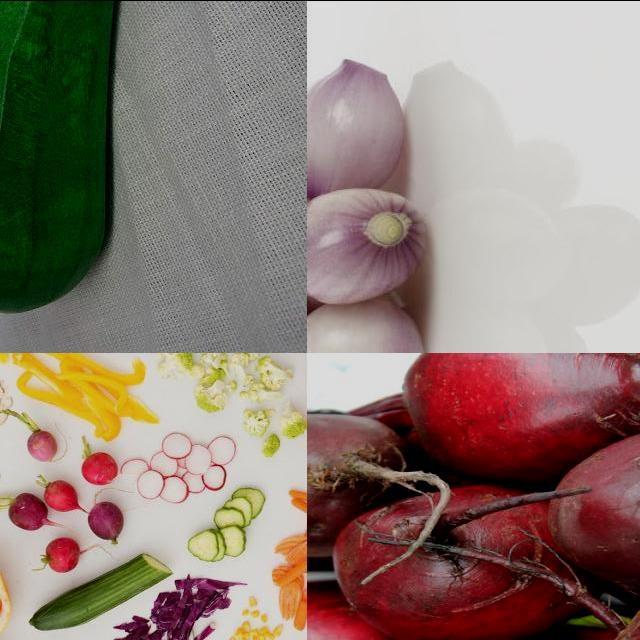beet: (332, 484, 570, 640), (407, 353, 640, 487), (308, 408, 415, 558), (550, 435, 640, 591)
cucumber: (30, 556, 162, 631)
onion: (308, 190, 432, 308), (308, 61, 413, 193), (308, 298, 434, 353)
zucchini: (1, 1, 132, 327)
